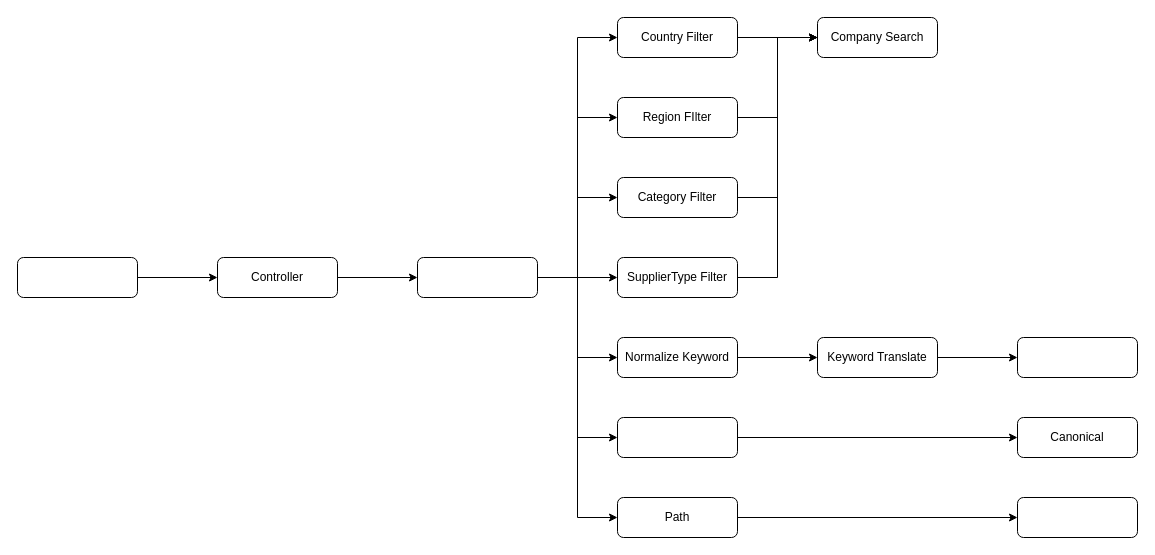
The diagram is 1155 pixels wide and 555 high, and some of its shapes have lost their labels. Here are the shapes that lost their labels. From the top down, the box of each, then its label:
(16, 256, 138, 298): EP CSERP Url
(416, 256, 538, 298): DomainUtil
(1016, 336, 1138, 378): Alternate
(616, 416, 738, 458): Normalize Path
(1016, 496, 1138, 538): Index
